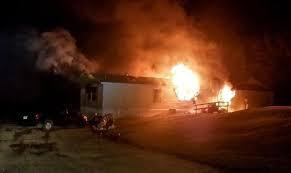fire: (165, 59, 201, 102), (209, 80, 237, 109)
